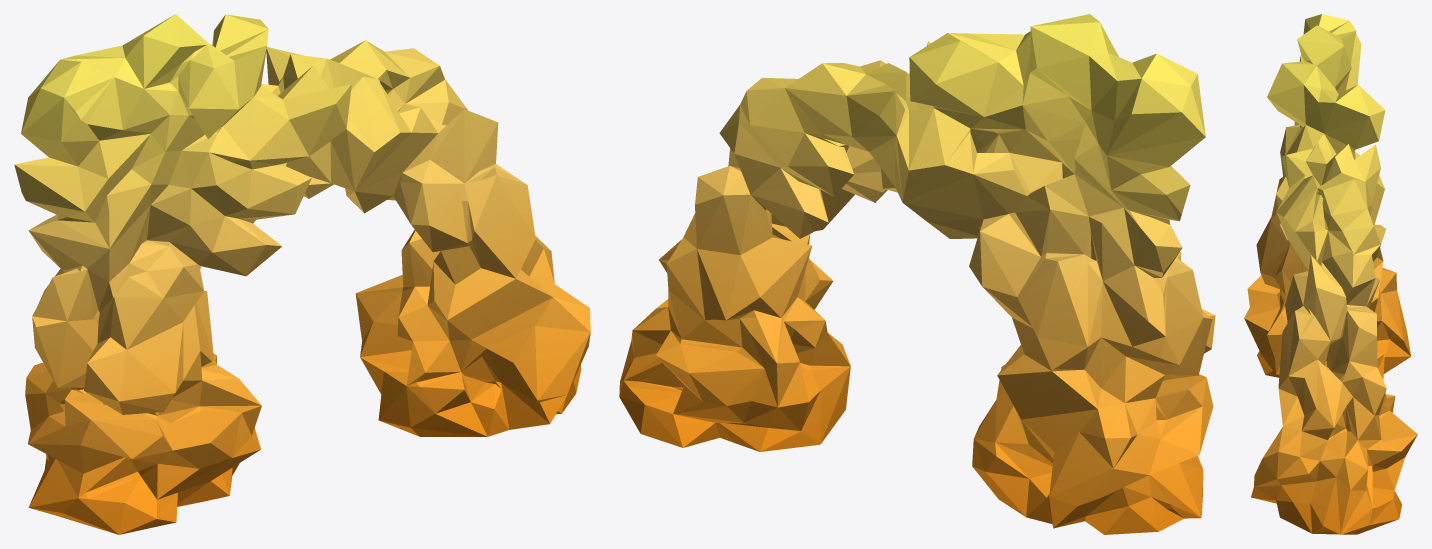
The model's file is SM_Rock_8.fbx.
3 renders of one model, left to right at view 1: azimuth 30°, elevation 25°; view 2: azimuth 150°, elevation 25°; view 3: azimuth 270°, elevation 25°, orthographic. The views are drawn at different scales.
Parts seen in each view (by area): view 1: Rock_8; view 2: Rock_8; view 3: Rock_8.
Boxes of the visible parts, x1,y1,x2,y2 form: Rock_8: (14,14,590,534); Rock_8: (619,14,1215,534); Rock_8: (1244,14,1417,534).
Bounding box in the file's own units: 2420 × 1889 × 848.
